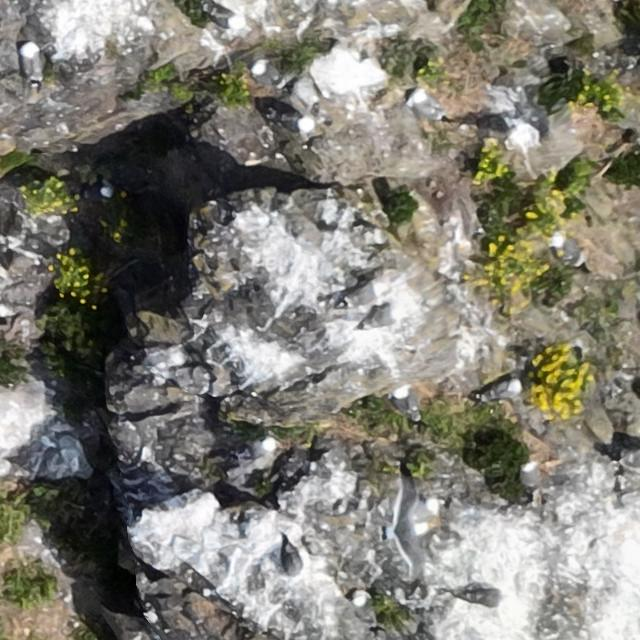F: (382, 474, 435, 574)
umineko: (255, 59, 300, 97), (338, 281, 388, 315), (361, 300, 405, 336), (231, 435, 275, 471), (278, 533, 306, 581), (459, 587, 505, 606), (484, 379, 521, 399), (354, 596, 376, 626), (393, 389, 416, 417), (20, 45, 38, 79), (208, 8, 238, 28), (414, 96, 441, 117), (80, 186, 112, 202), (520, 462, 538, 490), (278, 114, 308, 129), (0, 303, 17, 317)
